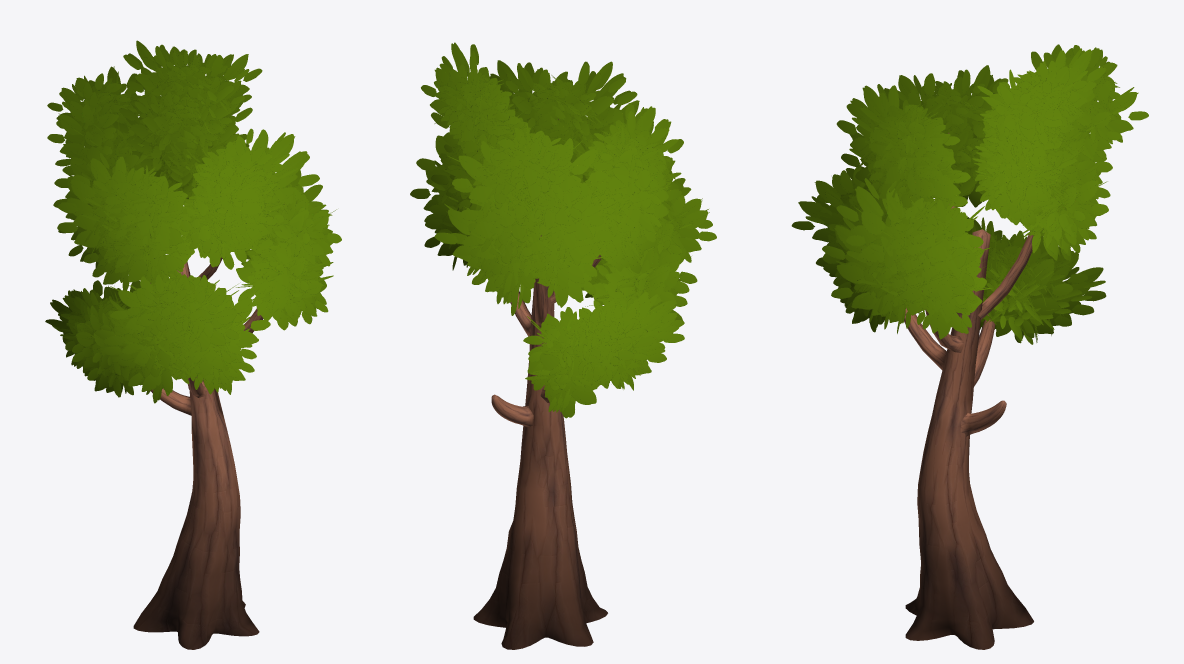
3 renders of one model, left to right at view 1: azimuth 30°, elevation 25°; view 2: azimuth 150°, elevation 25°; view 3: azimuth 270°, elevation 25°, orthographic. The views are drawn at different scales.
Parts seen in each view (by area): view 1: CommonTree_5; view 2: CommonTree_5; view 3: CommonTree_5.
Part boxes in pixels (box(x1,y1,x2,y2)): CommonTree_5: box(45, 40, 341, 649); CommonTree_5: box(410, 42, 716, 649); CommonTree_5: box(791, 44, 1148, 649).
Bounding box in the file's own units: 3.67 × 7.01 × 4.22.
Materials: 2 (2 with a texture image).
